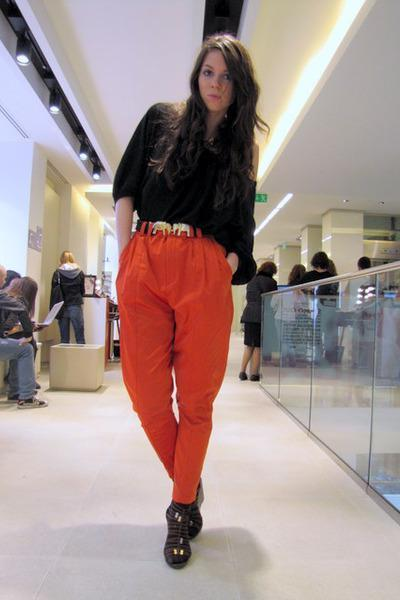long sleeve shirt: (109, 97, 263, 285)
trousers: (117, 228, 238, 512)
